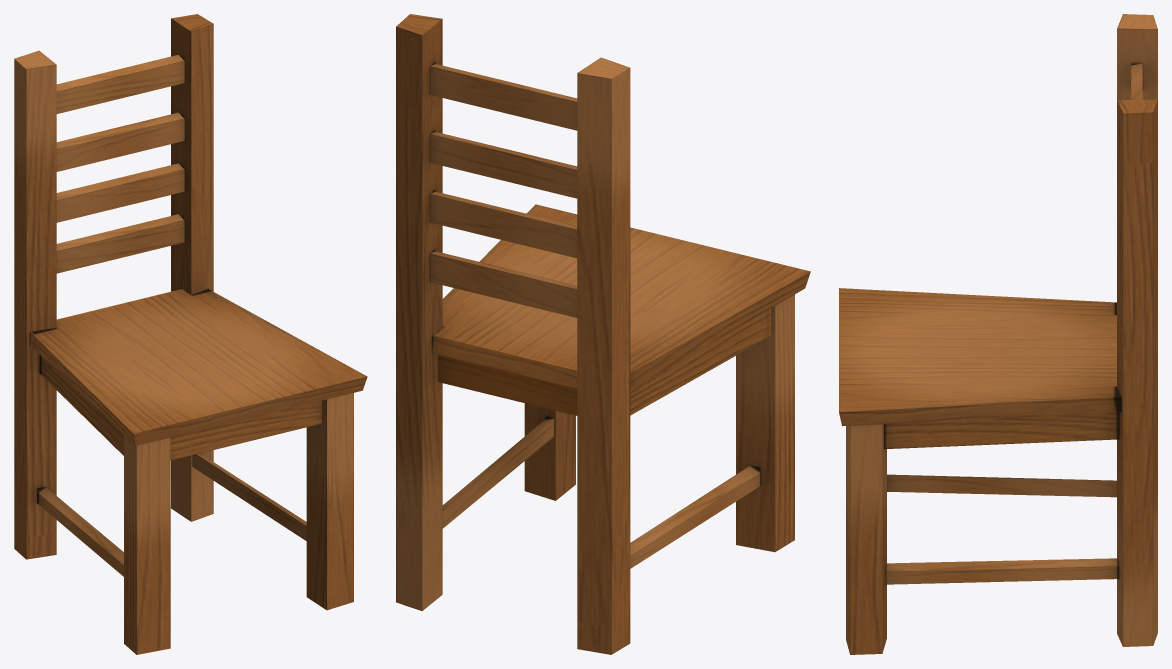
File: real_chair.obj
3 renders of one model, left to right at view 1: azimuth 30°, elevation 25°; view 2: azimuth 150°, elevation 25°; view 3: azimuth 270°, elevation 25°, orthographic. The views are drawn at different scales.
Parts seen in each view (by area): view 1: Chair_mesh; view 2: Chair_mesh; view 3: Chair_mesh.
Boxes of the visible parts, bbox=[...] form: Chair_mesh: bbox=[14, 14, 367, 654]; Chair_mesh: bbox=[396, 14, 810, 654]; Chair_mesh: bbox=[839, 14, 1157, 654].
Bounding box in the file's own units: 0.48 × 0.96 × 0.52.
1 material, 1 textured.
